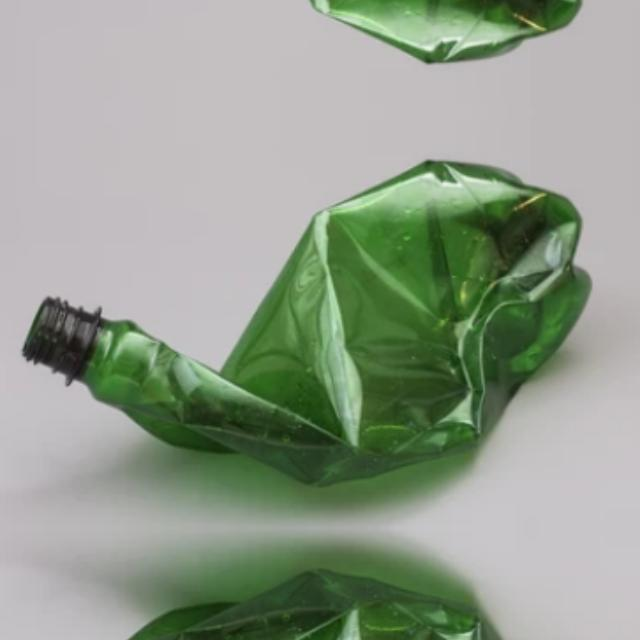Plastic: (15, 126, 611, 498), (15, 0, 611, 95), (15, 556, 611, 640)
